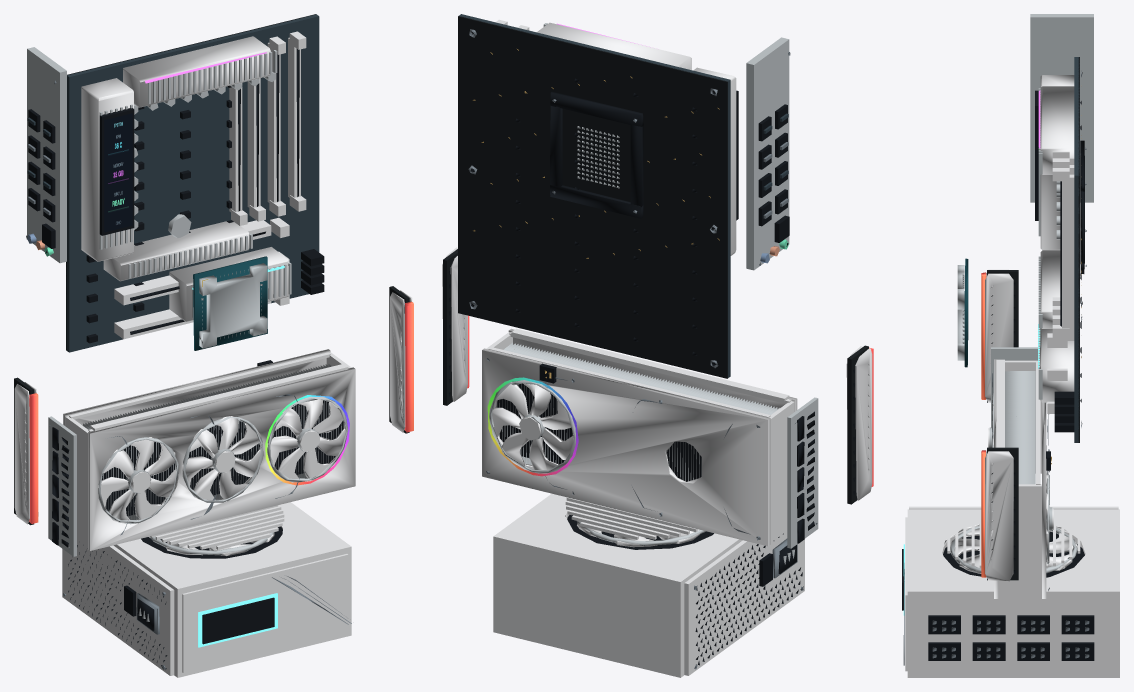
The model's file is gallery87.glb.
3 renders of one model, left to right at view 1: azimuth 30°, elevation 25°; view 2: azimuth 150°, elevation 25°; view 3: azimuth 270°, elevation 25°, orthographic. The views are drawn at different scales.
Parts seen in each view (by area): view 1: s83-surface-a7996e13-ca06-4cba-8576-d943472aa9a3, s83-surface-c6193888-92f5-4102-a67d-829e283fcc8d, s83-surface-1f45d156-577a-40b6-8b41-edcf7fb4af4d, s83-surface-e82d7635-c868-48d5-bf64-d3d30358f0a1, s83-surface-ffc8a567-86a8-469e-884f-b6b6bba03458; view 2: s83-surface-a7996e13-ca06-4cba-8576-d943472aa9a3, s83-surface-ffc8a567-86a8-469e-884f-b6b6bba03458; view 3: s83-surface-a7996e13-ca06-4cba-8576-d943472aa9a3, s83-surface-1f45d156-577a-40b6-8b41-edcf7fb4af4d.
Part boxes in pixels (x1=…): s83-surface-a7996e13-ca06-4cba-8576-d943472aa9a3: x1=14, y1=14, x2=412, y2=677; s83-surface-c6193888-92f5-4102-a67d-829e283fcc8d: x1=104, y1=113, x2=132, y2=232; s83-surface-1f45d156-577a-40b6-8b41-edcf7fb4af4d: x1=29, y1=301, x2=413, y2=523; s83-surface-e82d7635-c868-48d5-bf64-d3d30358f0a1: x1=198, y1=593, x2=277, y2=647; s83-surface-ffc8a567-86a8-469e-884f-b6b6bba03458: x1=265, y1=395, x2=349, y2=485; s83-surface-a7996e13-ca06-4cba-8576-d943472aa9a3: x1=442, y1=14, x2=872, y2=677; s83-surface-ffc8a567-86a8-469e-884f-b6b6bba03458: x1=487, y1=377, x2=578, y2=476; s83-surface-a7996e13-ca06-4cba-8576-d943472aa9a3: x1=902, y1=14, x2=1119, y2=677; s83-surface-1f45d156-577a-40b6-8b41-edcf7fb4af4d: x1=981, y1=272, x2=986, y2=577.
Bounding box in the file's own units: 1.05 × 1.49 × 0.5282.
Materials: 7 (7 with a texture image).
